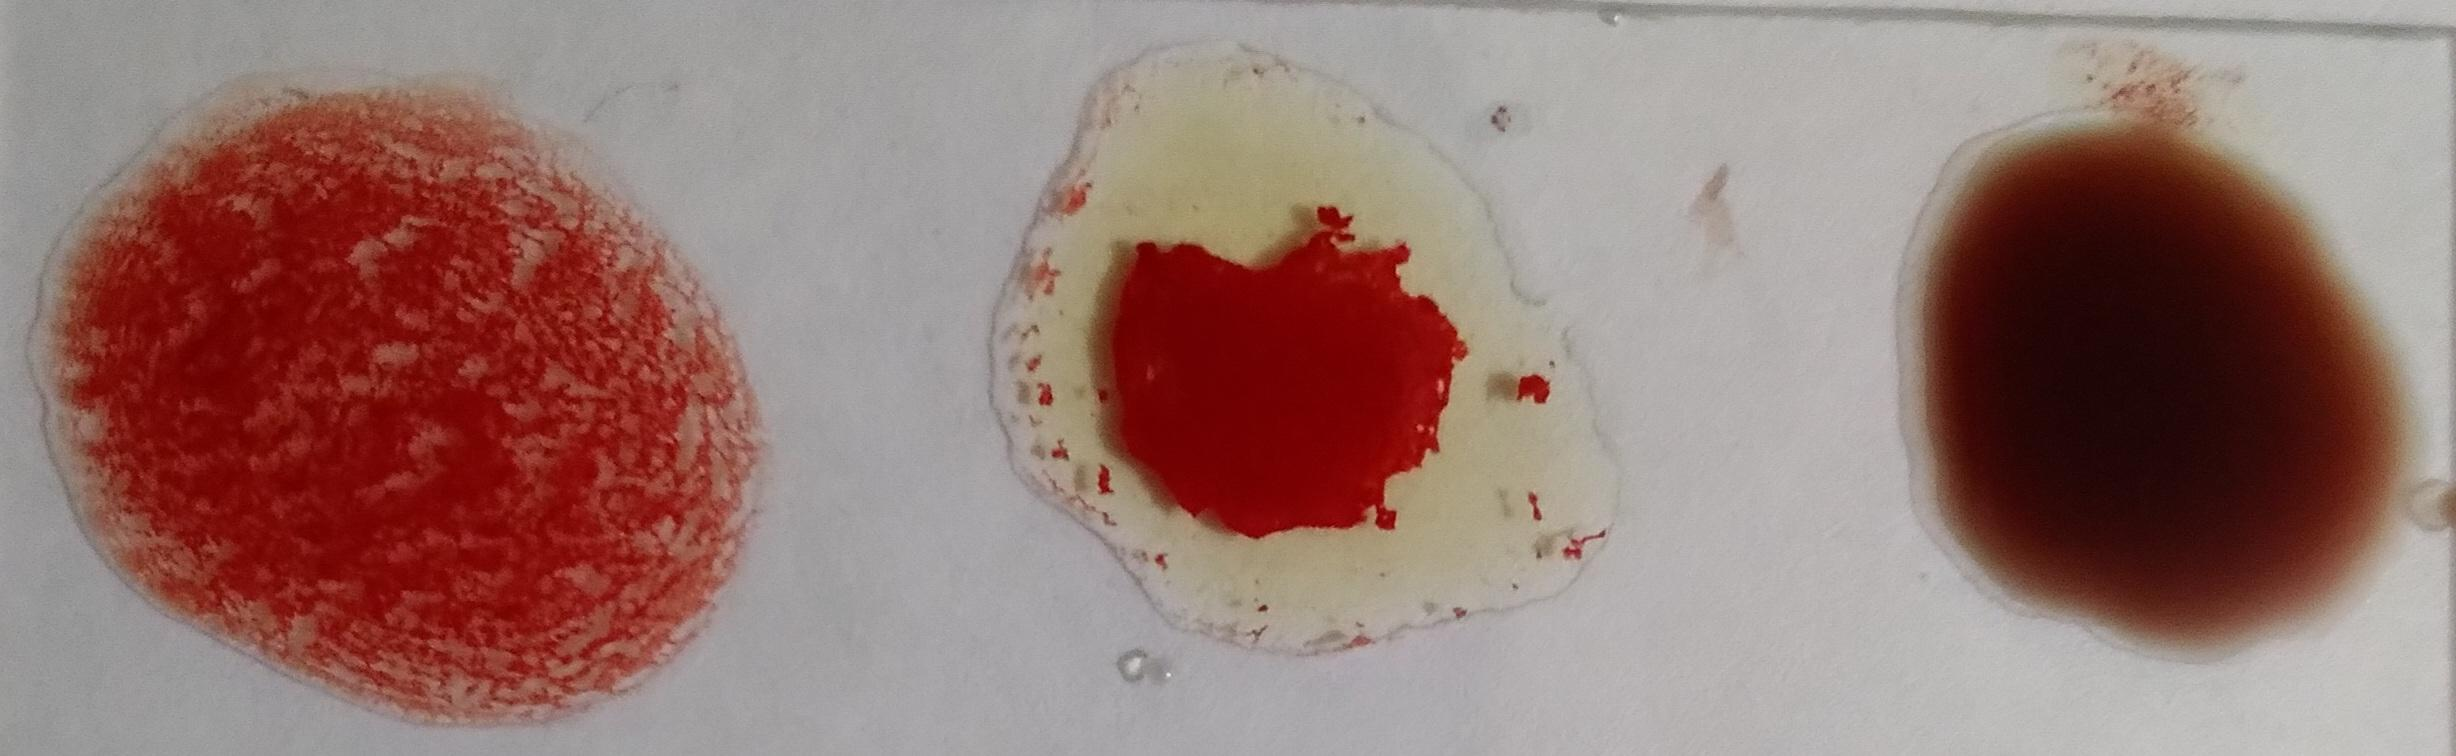B: (993, 47, 1612, 670)
D: (38, 70, 764, 737)
